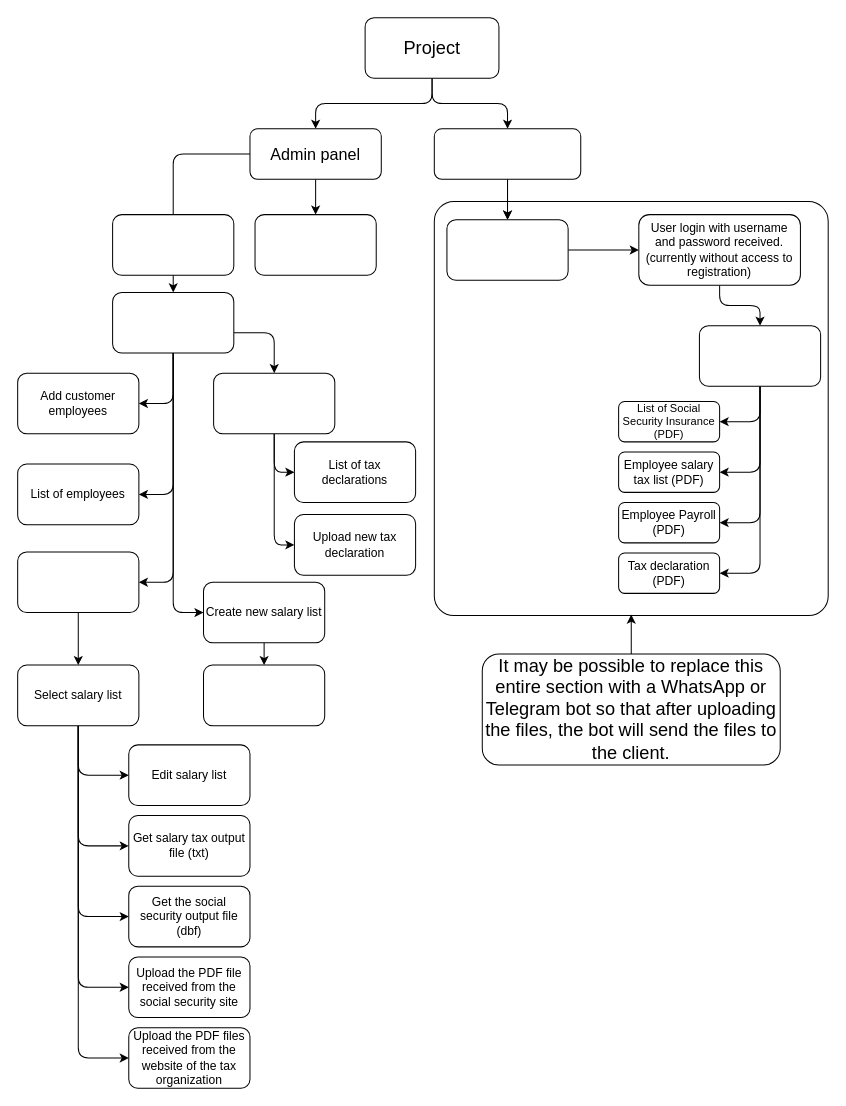
Image size: 846x1106. Some labels were removed from this diagram. The centre of each missing label's shape, as x and y in pixels:
Add customer: the point at 315,244
Customers list: the point at 173,244
Enter employee salary details: the point at 264,695
Home Page: the point at 507,153
Salary lists: the point at 78,582
Select customer: the point at 173,322
Tax declarations: the point at 274,403
User profile: the point at 759,355
User side: the point at 507,249
